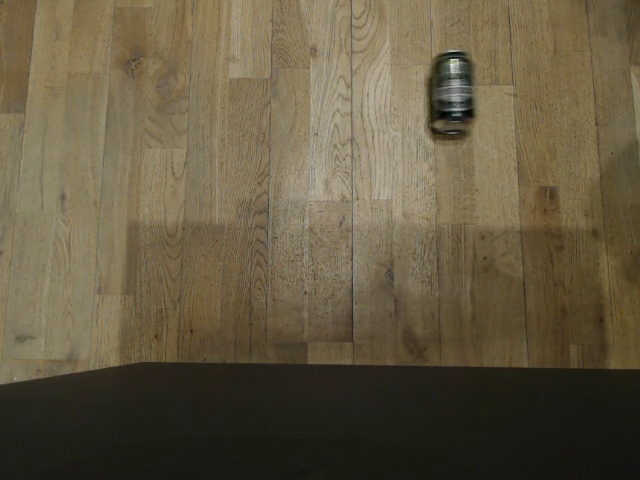beer: (424, 48, 479, 141)
